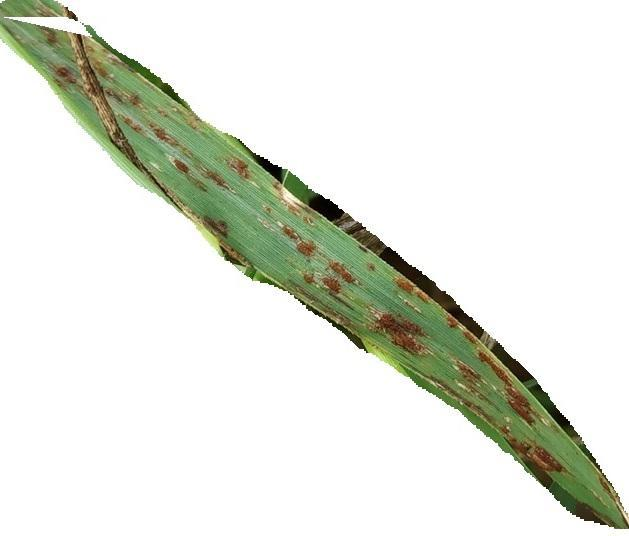Corn: (285, 202, 572, 474), (45, 26, 268, 262)
